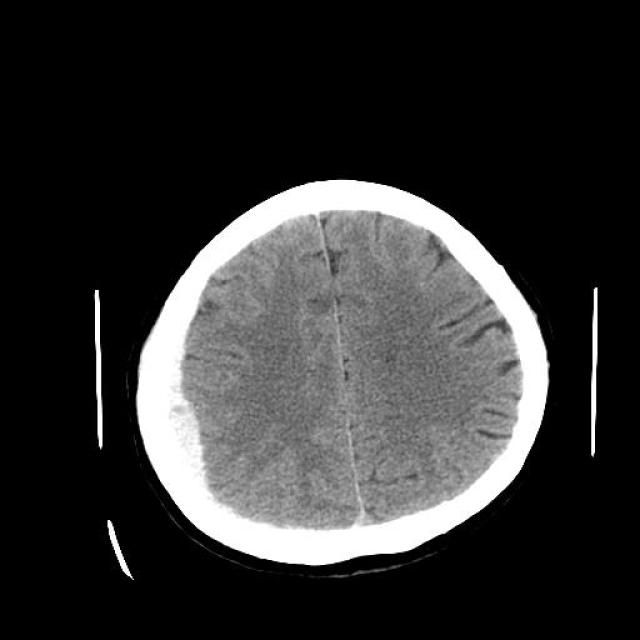Subdural: (155, 329, 231, 521)
